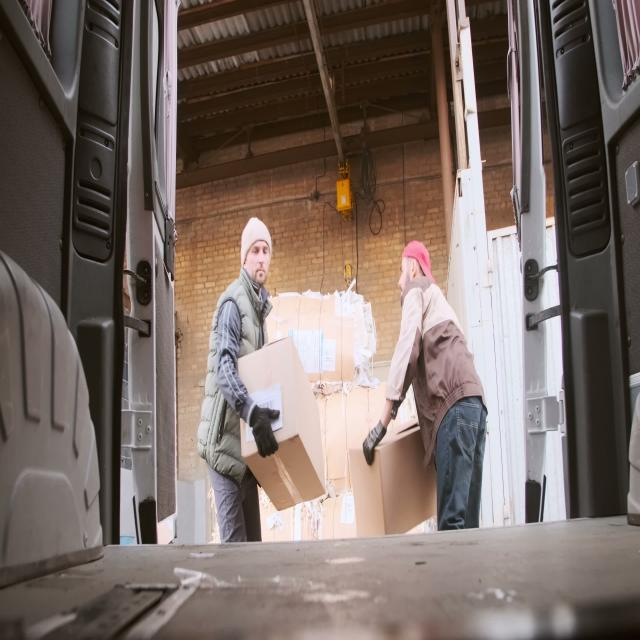counting-the-number-of-boxes: (238, 337, 326, 511), (349, 416, 437, 537)
